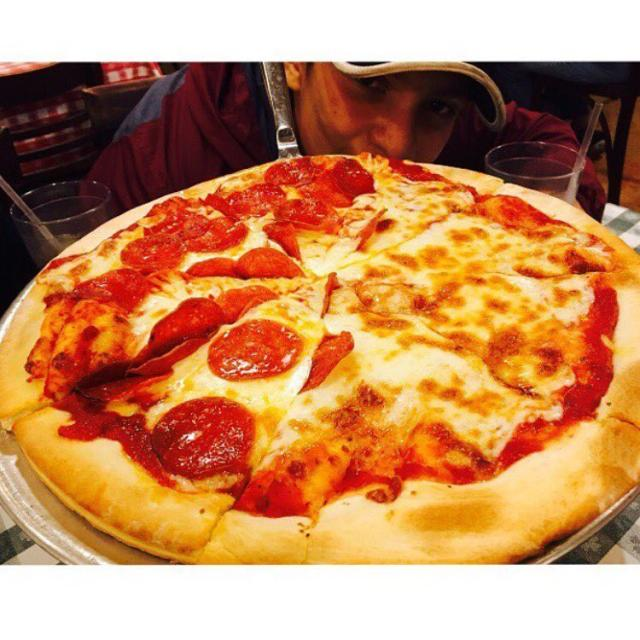pepperoni: (147, 384, 254, 483), (129, 298, 228, 379), (184, 237, 306, 290), (210, 316, 303, 385), (69, 264, 153, 319), (147, 207, 247, 253), (302, 158, 384, 210), (82, 358, 181, 401), (299, 330, 361, 393), (204, 180, 282, 224), (119, 232, 186, 283), (216, 279, 288, 322), (269, 191, 338, 231), (261, 158, 323, 192), (266, 214, 302, 264), (317, 266, 344, 318), (358, 204, 381, 257)
pizza: (0, 152, 640, 564)
